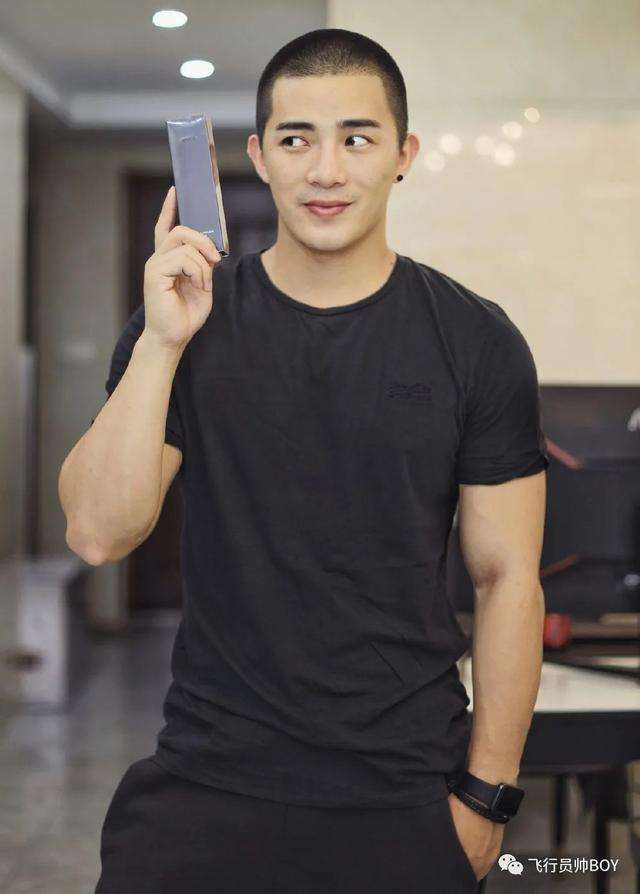person: (165, 27, 567, 799)
